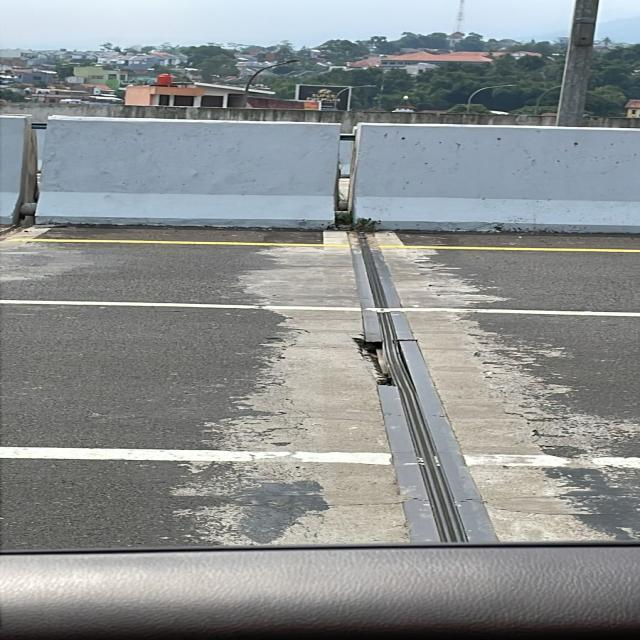Buraco: (348, 336, 398, 388)
